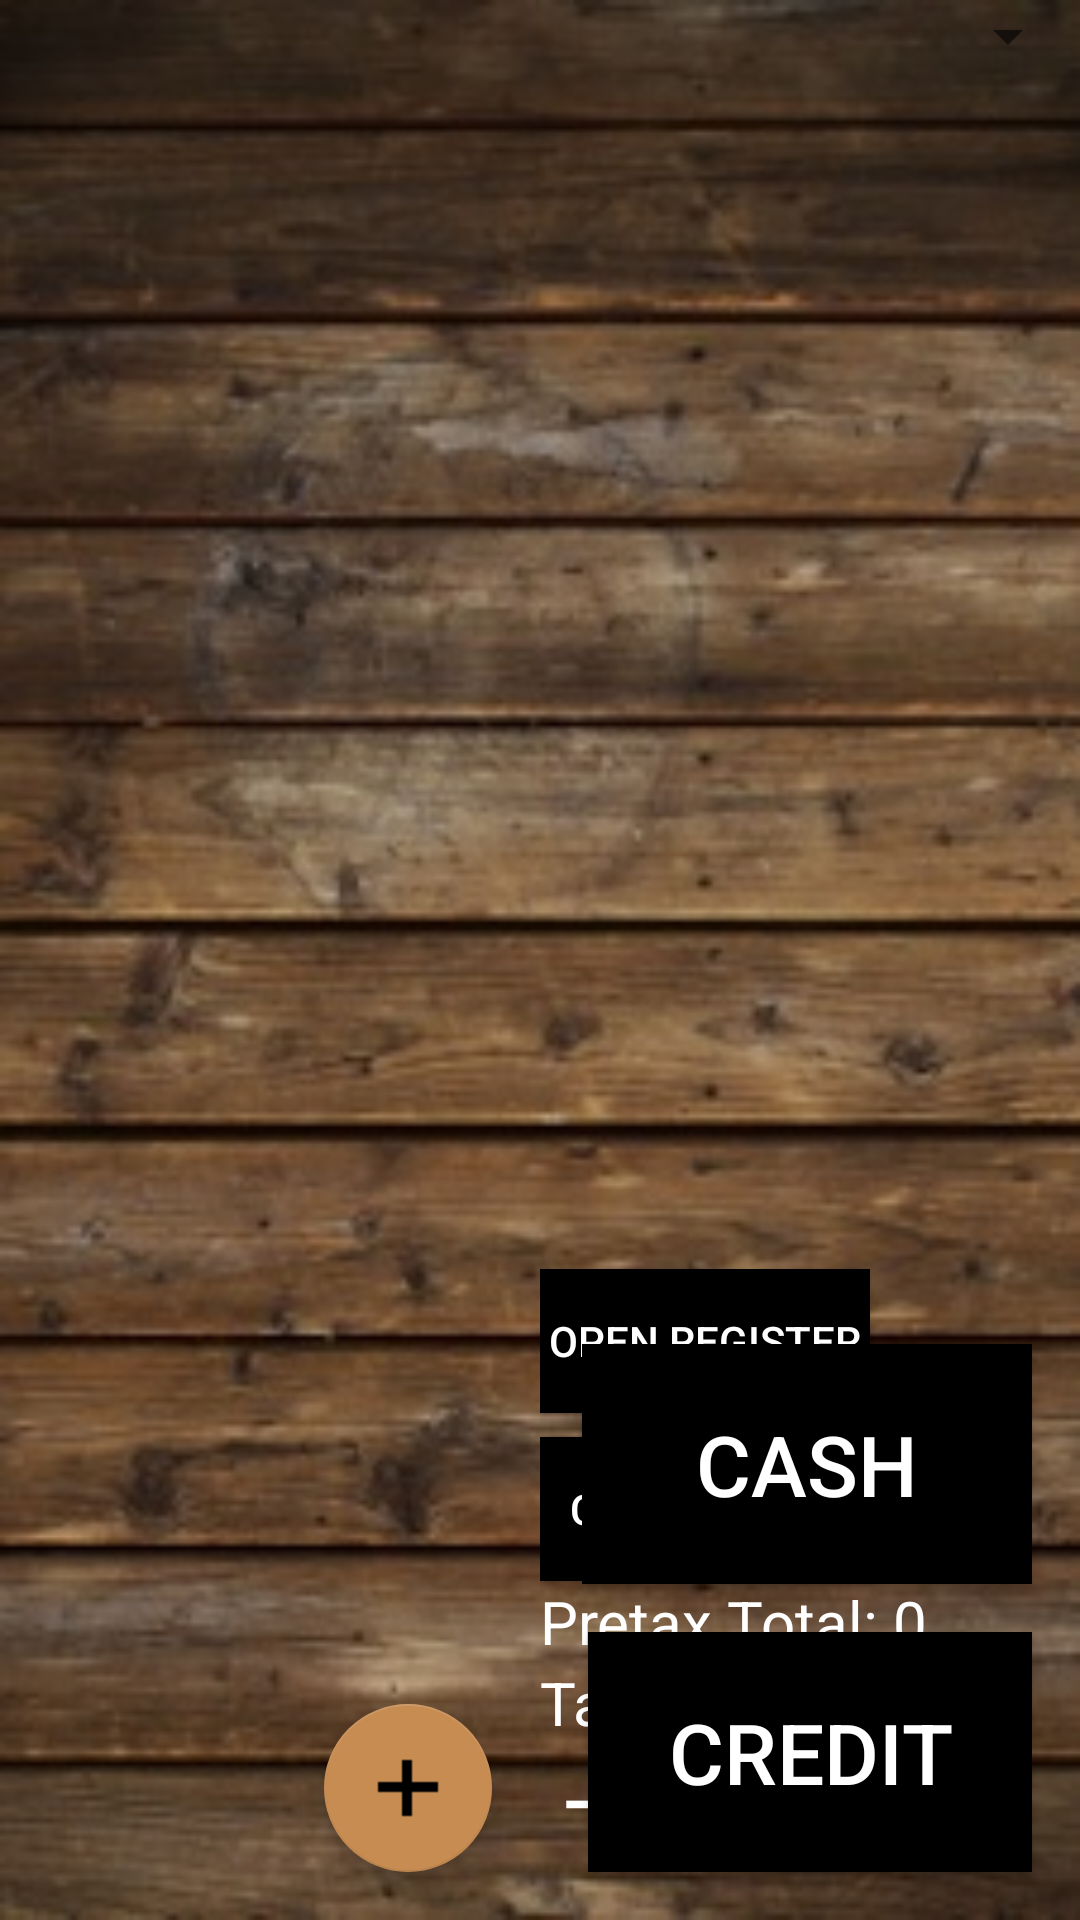

Screen size 1080w x 1920h. Icon name, then its box in pixels as [x1, y1, x2, y2]:
plus: [324, 1704, 492, 1872]
